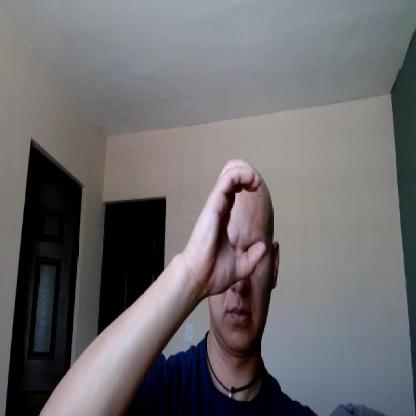C: (187, 160, 267, 297)
